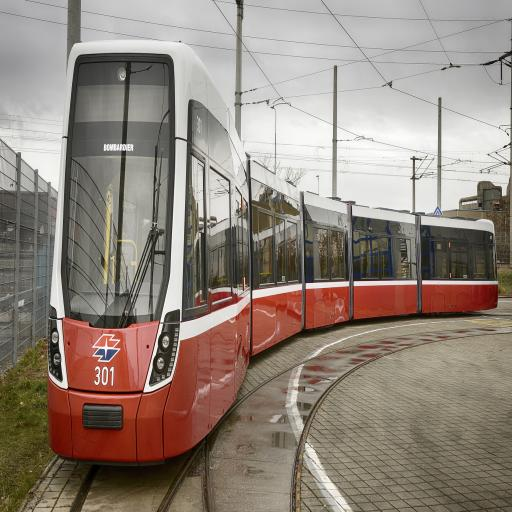Flexity: (44, 36, 498, 464)
